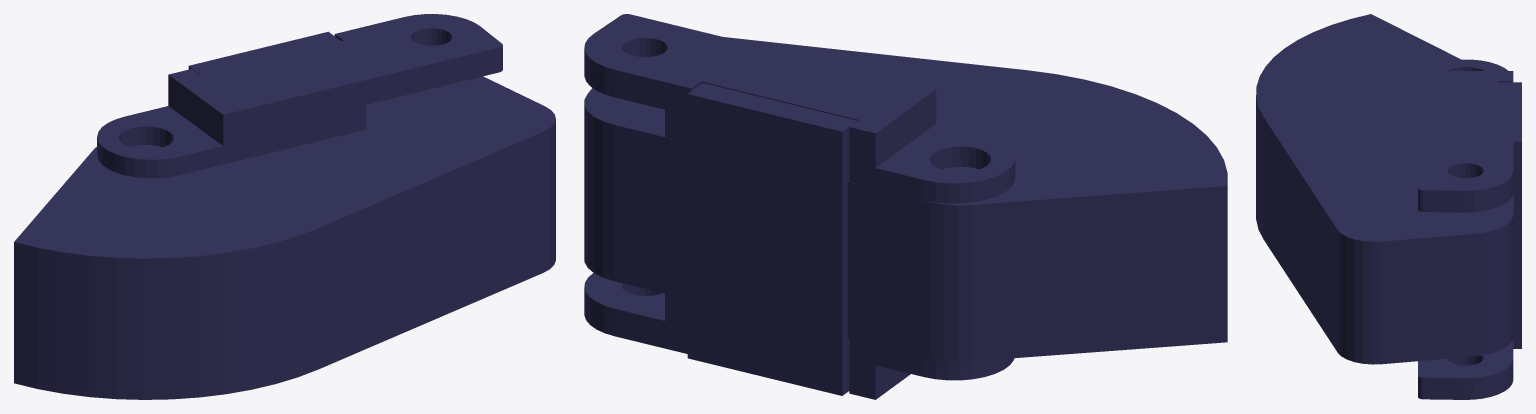
3 views of the same model, side by side, from view 1: azimuth 30°, elevation 25°; view 2: azimuth 150°, elevation 25°; view 3: azimuth 270°, elevation 25° (orthographic). The views are drawn at different scales.
Visible parts, largest first — view 1: link_2; view 2: link_2; view 3: link_2.
Part boxes in pixels (x1,y1,x2,y2): link_2: (14, 14, 555, 399); link_2: (584, 14, 1227, 399); link_2: (1256, 14, 1521, 399).
Size of the model in its own units: 0.0718 by 0.0354 by 0.0307.
